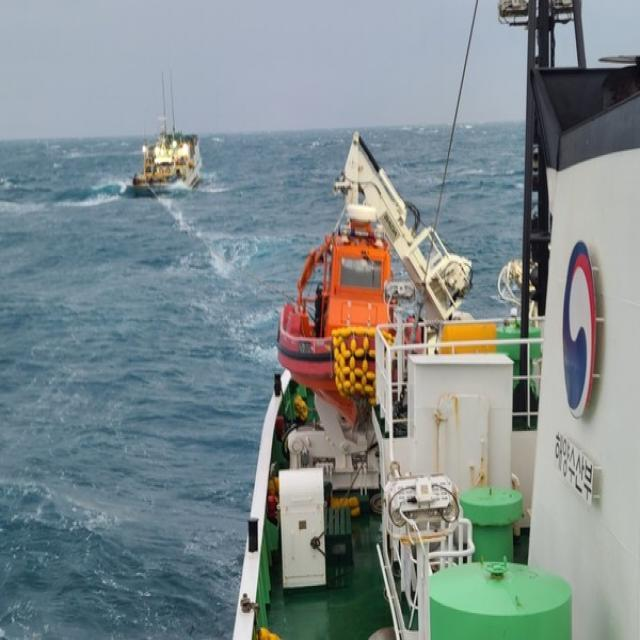Ship: (128, 63, 210, 205)
